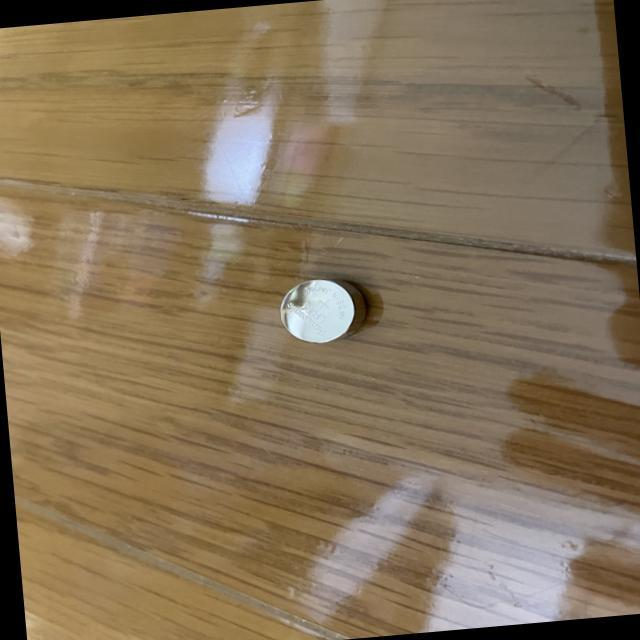COIN: (274, 273, 368, 346)
